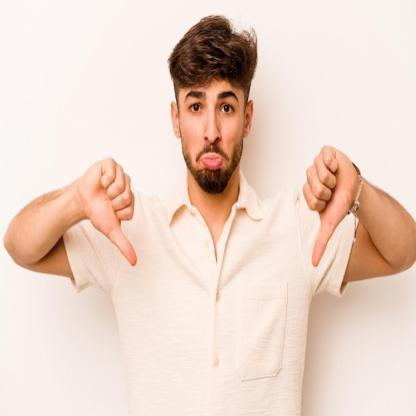thumb_down: (79, 154, 142, 268), (299, 139, 353, 272)
